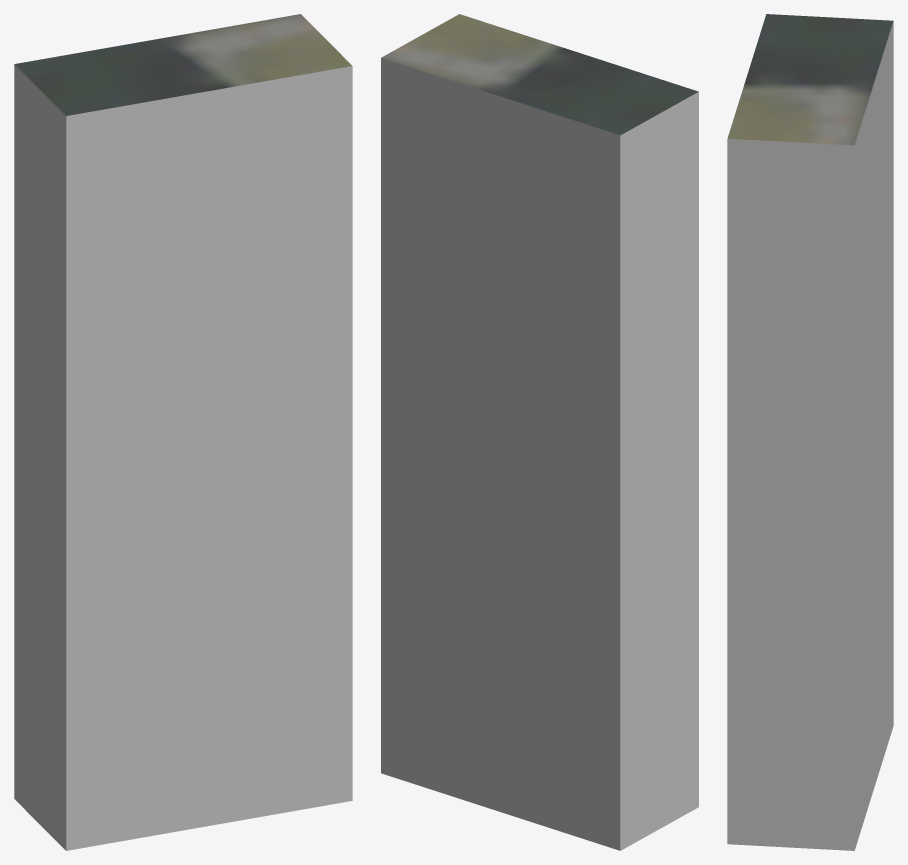
The model's file is DEBW_0010007Tx59.gltf.
3 renders of one model, left to right at view 1: azimuth 30°, elevation 25°; view 2: azimuth 150°, elevation 25°; view 3: azimuth 270°, elevation 25°, orthographic. The views are drawn at different scales.
Visible parts, largest first — view 1: Z_UP; view 2: Z_UP; view 3: Z_UP.
Part boxes in pixels (<box>): Z_UP: <box>14,14,352,850</box>; Z_UP: <box>381,14,698,850</box>; Z_UP: <box>727,14,893,850</box>.
Size of the model in its own units: 3.52 by 8.81 by 1.88.
Materials: 2 (1 with a texture image).
